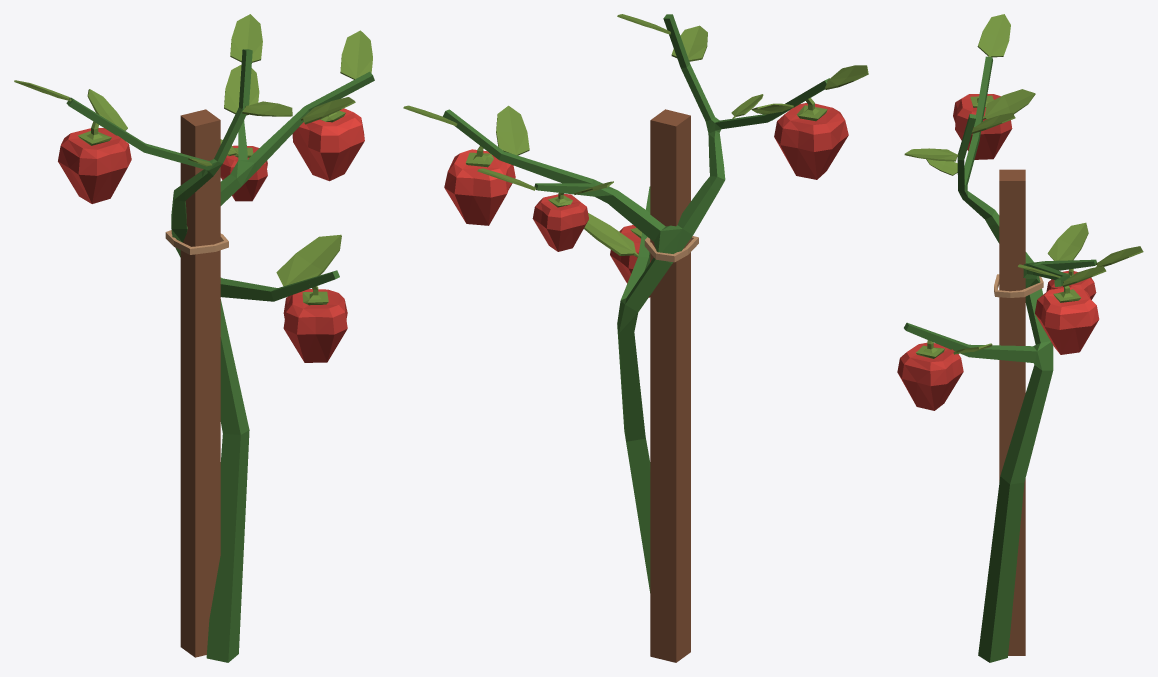
File: PepperPlant_02.fbx
The picture shows the model from 3 angles, left to right: view 1: azimuth 30°, elevation 25°; view 2: azimuth 150°, elevation 25°; view 3: azimuth 270°, elevation 25°; orthographic projection. The views are drawn at different scales.
Parts seen in each view (by area): view 1: PepperPlant_02_LOD0; view 2: PepperPlant_02_LOD0; view 3: PepperPlant_02_LOD0.
Part boxes in pixels (x1,y1,x2,y2): PepperPlant_02_LOD0: [14, 14, 374, 662]; PepperPlant_02_LOD0: [403, 14, 868, 662]; PepperPlant_02_LOD0: [897, 14, 1143, 662].
Size of what is drawn, in the model's own units: 62.28 by 91.33 by 36.59.
